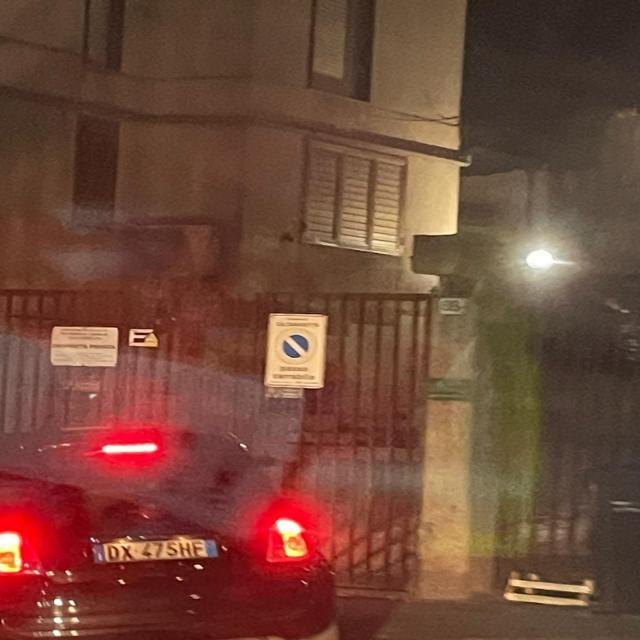forb_stopping: (274, 329, 319, 365)
